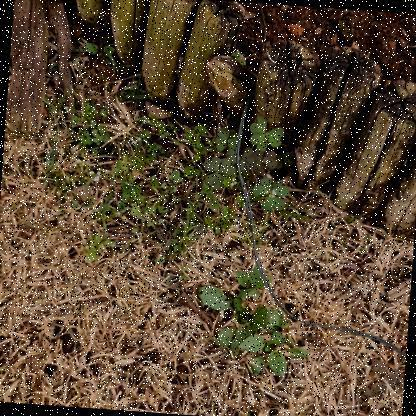Weeds: (192, 261, 318, 381), (200, 112, 295, 216)
